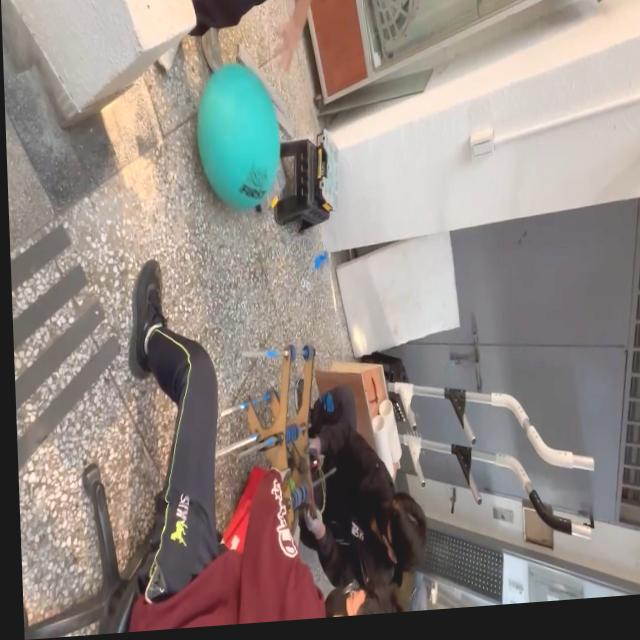ALGAE: (192, 57, 284, 216)
